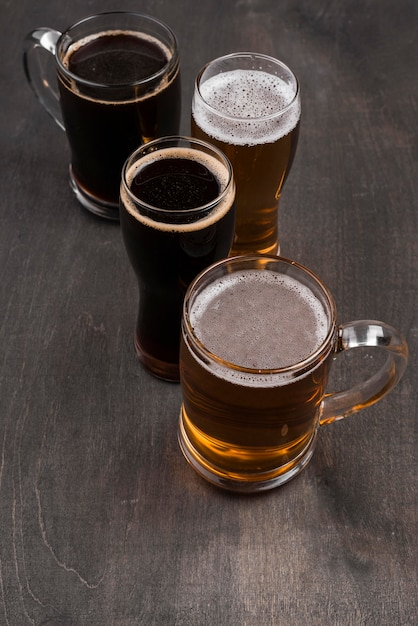alcohol: (180, 252, 410, 500), (24, 14, 178, 228), (112, 133, 237, 388), (186, 41, 303, 273)
